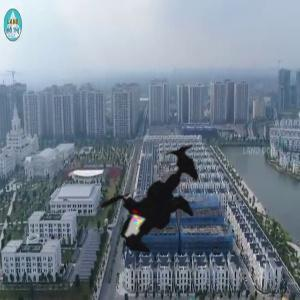drone: (62, 105, 243, 286)
